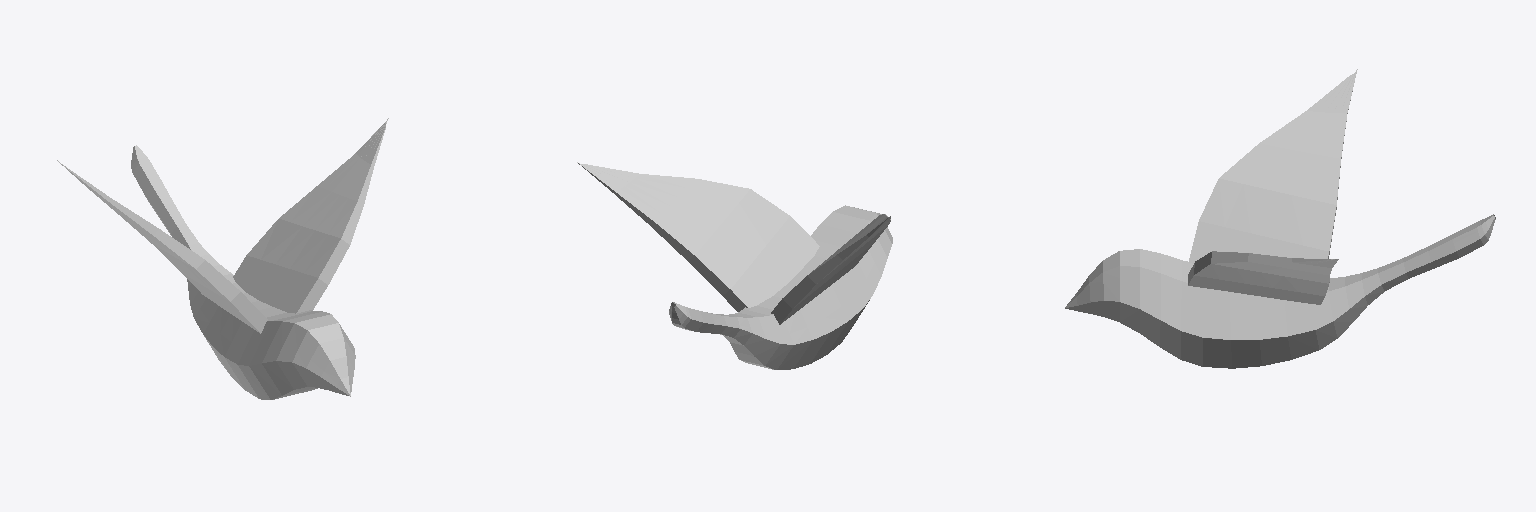
Rendered from bird3.obj.
The picture shows the model from 3 angles: view 1: azimuth 30°, elevation 25°; view 2: azimuth 150°, elevation 25°; view 3: azimuth 270°, elevation 25°; orthographic projection.
Size of the model in its own units: 3.03 by 1.94 by 3.49.